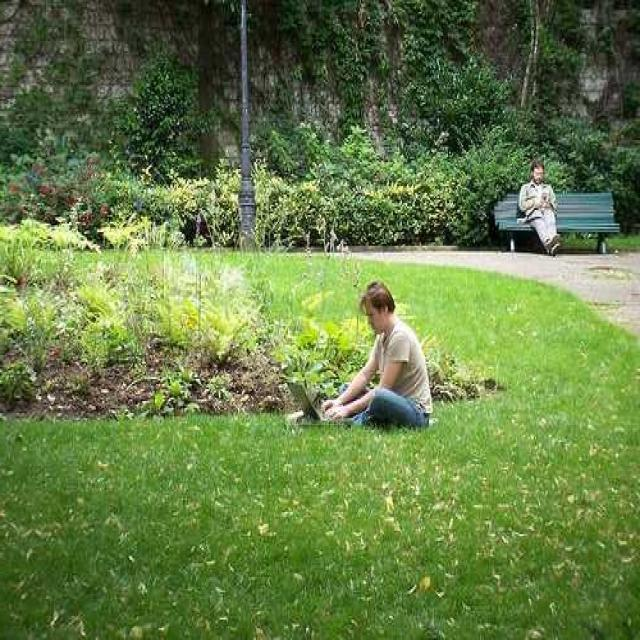-keyboard-: (285, 384, 343, 426)
